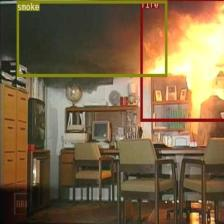fire: (140, 0, 224, 121)
smoke: (17, 0, 166, 76)
